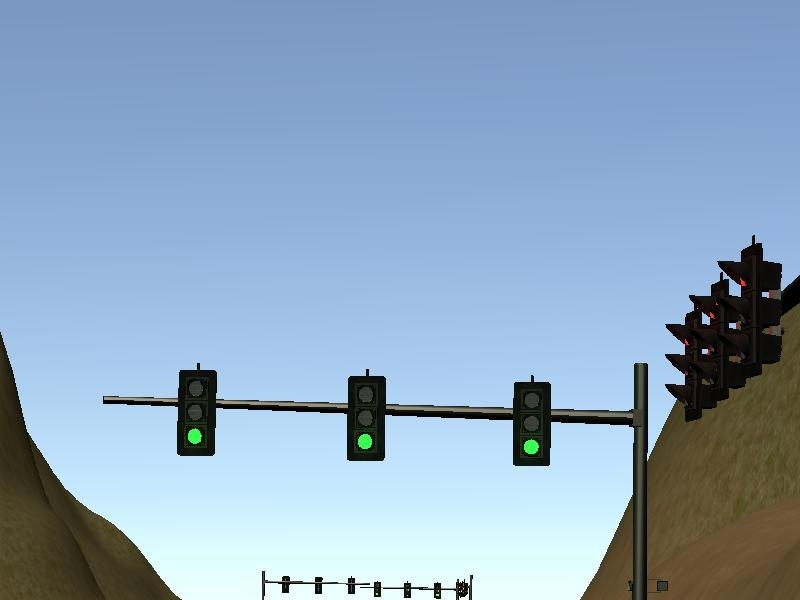green: (170, 365, 221, 459), (342, 370, 391, 466), (511, 374, 555, 468)
